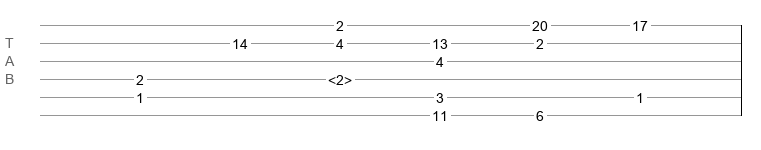1: (136, 90, 144, 100), (636, 90, 644, 100)
11: (432, 108, 448, 118)
13: (432, 36, 448, 46)
14: (232, 36, 248, 46)
17: (632, 18, 648, 28)
2: (136, 72, 144, 82), (336, 18, 344, 28), (536, 36, 544, 46)
20: (532, 18, 548, 28)
3: (436, 90, 444, 100)
4: (336, 36, 344, 46), (436, 54, 444, 64)
6: (536, 108, 544, 118)
harmonic: (328, 72, 352, 82)
